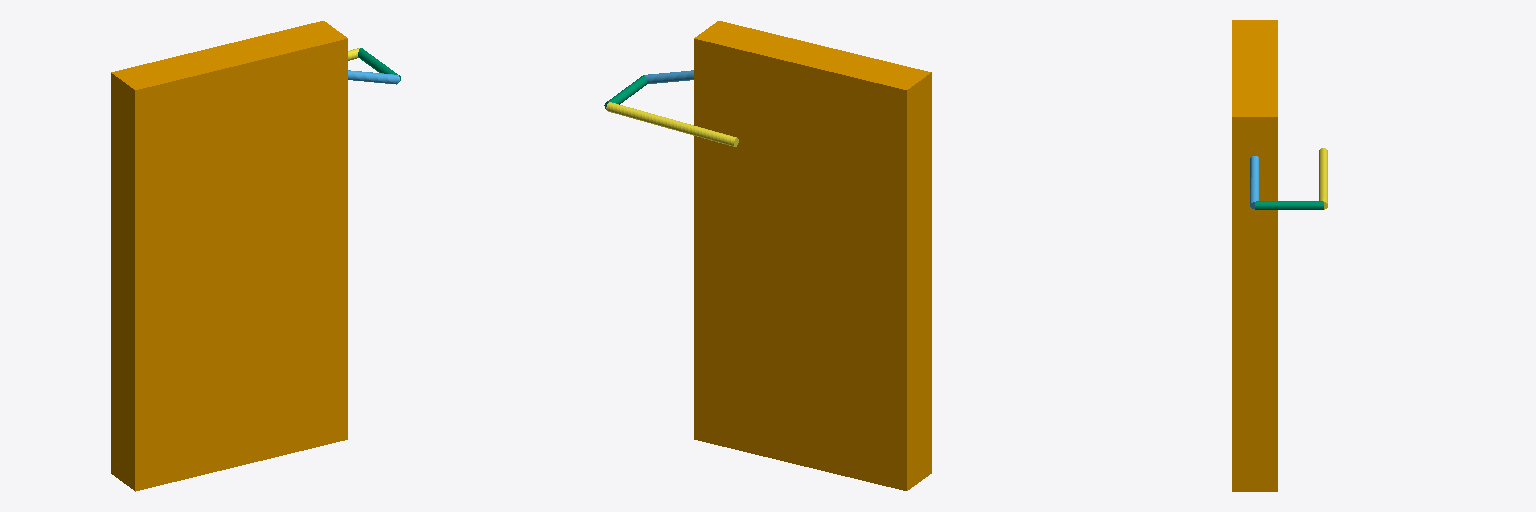
robot.urdf — simpleArm:
<?xml version="1.0"?>
<robot name="simpleArm">
  <link name="base_link">
    <visual>
      <geometry>
        <box size="0.5 0.1 0.9"/>
      </geometry>
      <origin rpy="0 0 0" xyz="0 0 0.45"/>
    </visual>
  </link>

  <link name="first_link">
    <visual>
      <geometry>
        <cylinder length="0.15" radius="0.01"/>
      </geometry>
      <origin rpy="1.57 0 0" xyz="0 0.075 0"/>
    </visual>
  </link>

  <link name="second_link">
    <visual>
      <geometry>
        <cylinder length="0.15" radius="0.01"/>
      </geometry>
      <origin rpy="0 1.57 0" xyz="-0.075 0 0"/>
    </visual>
  </link>

  <link name="third_link">
    <visual>
      <geometry>
        <cylinder length="0.3" radius="0.01"/>
      </geometry>
      <origin rpy="0 -1.57 0" xyz="-0.15 0 0"/>
    </visual>
  </link>


  <joint name="base_to_first_link" type="revolute">
    <parent link="base_link"/>
    <child link="first_link"/>
    <origin rpy="-1.57 0 0" xyz="0.25 0 0.8"/>
    <axis xyz="0 0 1" />
    <limit effort="300" velocity="0.1" lower="-0.42" upper="-2.1"/>
  </joint>

  <joint name="first_to_second_link" type="revolute">
    <parent link="first_link"/>
    <child link="second_link"/>
    <origin rpy="0 1.57 0" xyz="0 0.15 0"/>
    <axis xyz="0 0 1" />
    <limit effort="300" velocity="0.1" lower="1.223" upper="-1.57"/>
  </joint>

  <joint name="second_to_third_link" type="revolute">
    <parent link="second_link"/>
    <child link="third_link"/>
    <origin rpy="0 -1.57 0" xyz="-0.15 0 0"/>
    <axis xyz="0 0 1" />
    <limit effort="300" velocity="0.1" lower="0.174" upper="2.277"/>
  </joint>

</robot>

--- What the picture shows (computed from the rendered views, not written in the file) ---
The picture shows the robot from 3 angles, left to right: view 1: azimuth 30°, elevation 25°; view 2: azimuth 150°, elevation 25°; view 3: azimuth 270°, elevation 25°; orthographic projection.
Robot: simpleArm — 4 links, 3 joints (3 revolute); root link base_link; default pose: all joints at 0 but 2 set to mid-range because 0 is outside their limits (base_to_first_link = -1.26, second_to_third_link = 1.23).
Links seen in each view (by area): view 1: base_link; view 2: base_link, third_link; view 3: base_link, second_link.
Boxes of the visible links, bbox=[...] form: base_link: bbox=[111, 21, 347, 491]; base_link: bbox=[694, 21, 931, 490]; third_link: bbox=[606, 102, 738, 146]; base_link: bbox=[1232, 20, 1277, 491]; second_link: bbox=[1255, 201, 1323, 209].
Size in the robot's own frame: 0.6528 by 0.2102 by 0.9 metres.
Geometry: primitives only (box / cylinder / sphere), no mesh files.